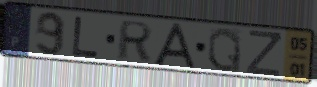9: (35, 10, 67, 57)
A: (151, 22, 198, 71)
L: (70, 14, 101, 59)
Q: (207, 26, 243, 74)
R: (115, 19, 155, 63)
Z: (245, 28, 283, 78)
